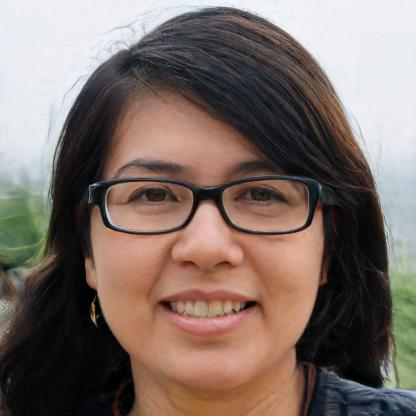glasses: (86, 170, 322, 238)
